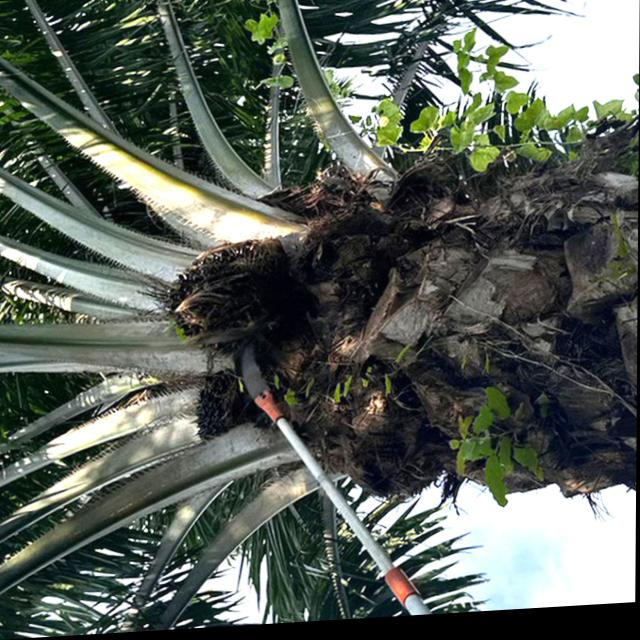unripe: (160, 236, 294, 338), (191, 371, 246, 442)
